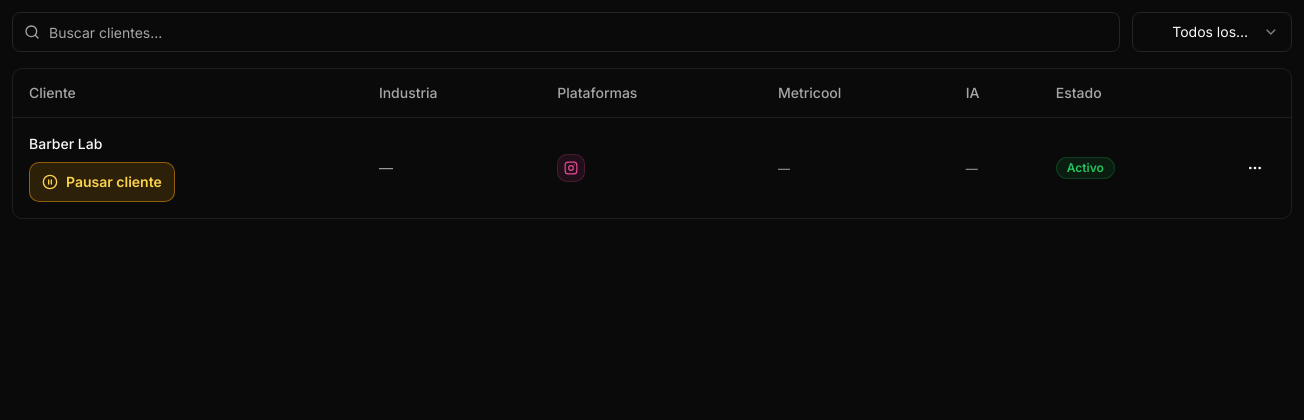
Test: ClientTable — pausar › un cliente activo ofrece pausar
Click the button named "acciones". click: [1255, 168]
box: [1235,148,1275,188]
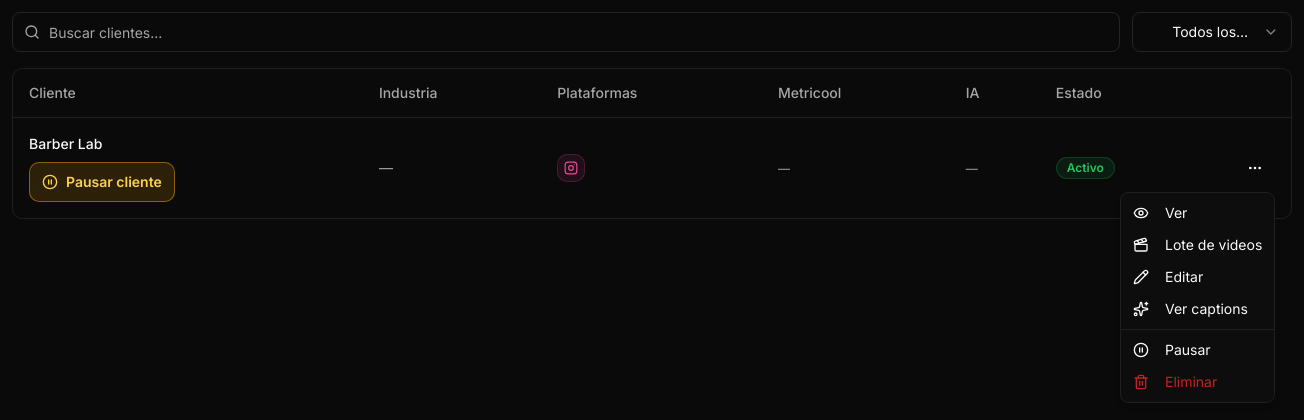
Check: the menu item "Pausar" is shown, box [1133,341,1211,358]
